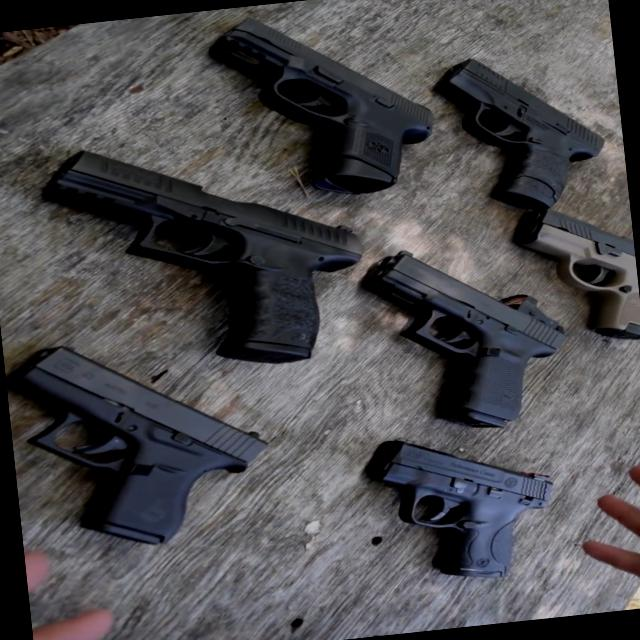handgun: (41, 121, 384, 413), (0, 308, 292, 590), (351, 215, 578, 448), (200, 0, 415, 214), (352, 412, 568, 598), (406, 48, 618, 223), (487, 193, 639, 363)
